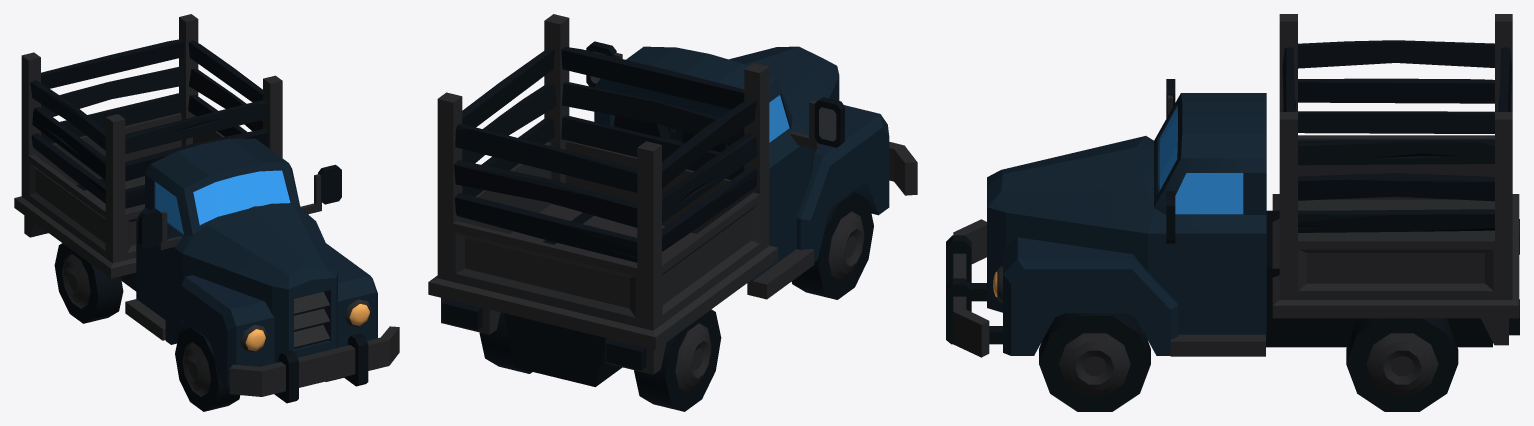
Rendered from Truck_1.fbx.
The picture shows the model from 3 angles, left to right: view 1: azimuth 30°, elevation 25°; view 2: azimuth 150°, elevation 25°; view 3: azimuth 270°, elevation 25°; orthographic projection. The views are drawn at different scales.
Parts seen in each view (by area): view 1: Truck_1; view 2: Truck_1; view 3: Truck_1.
Part boxes in pixels (x1=…): Truck_1: x1=14, y1=14, x2=399, y2=411; Truck_1: x1=428, y1=14, x2=917, y2=411; Truck_1: x1=946, y1=14, x2=1519, y2=411.
Size of the model in its own units: 81.7 by 91.53 by 159.
